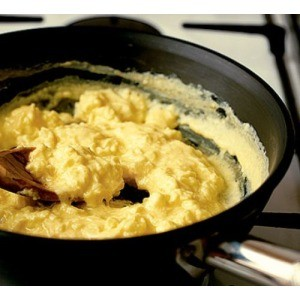egg_brain food: (35, 71, 196, 221)
